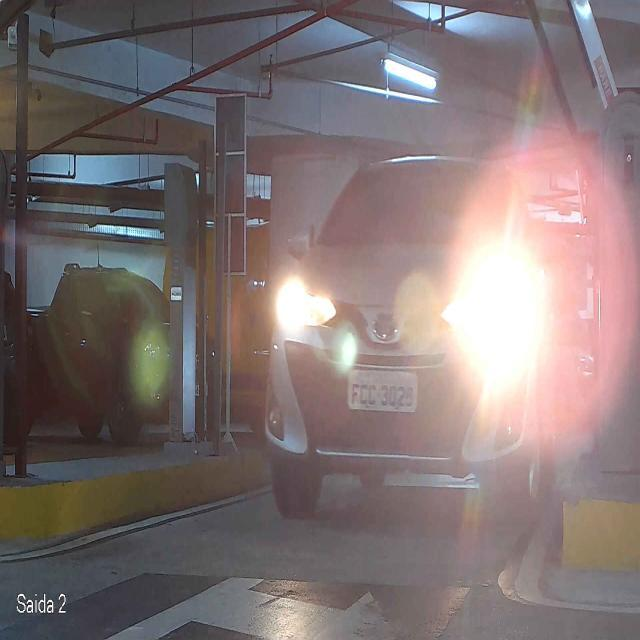old_plate: (346, 368, 420, 414)
